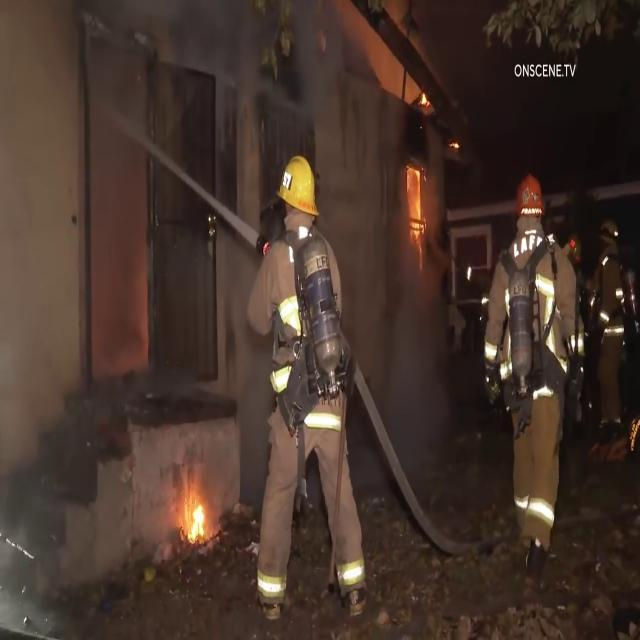Fire: (178, 493, 206, 540), (413, 170, 427, 234)
Smoke: (138, 4, 320, 77)
